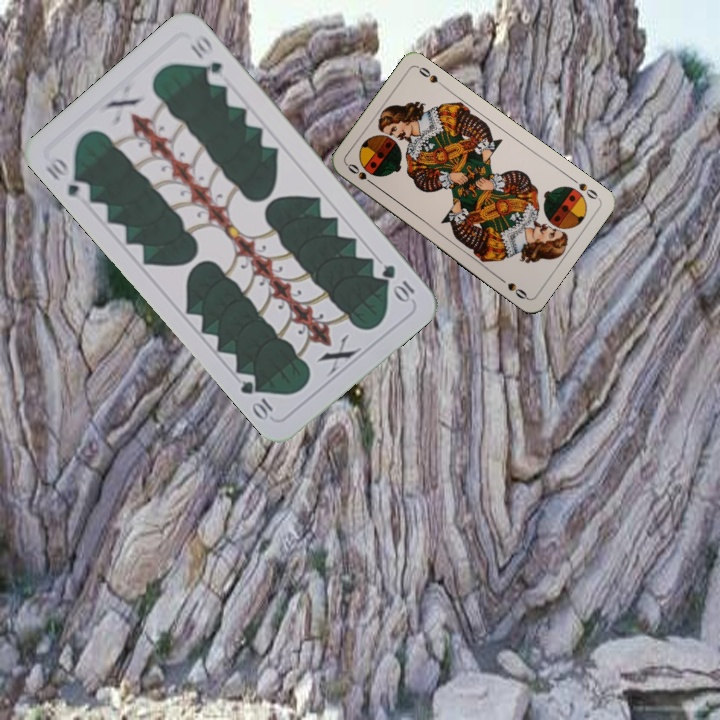G10: (41, 153, 94, 205), (377, 260, 418, 305)
SO: (343, 159, 378, 189), (567, 173, 602, 202)
